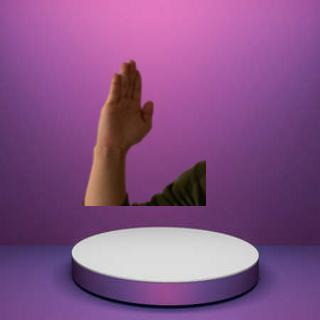RIGHT: (94, 57, 159, 160)
